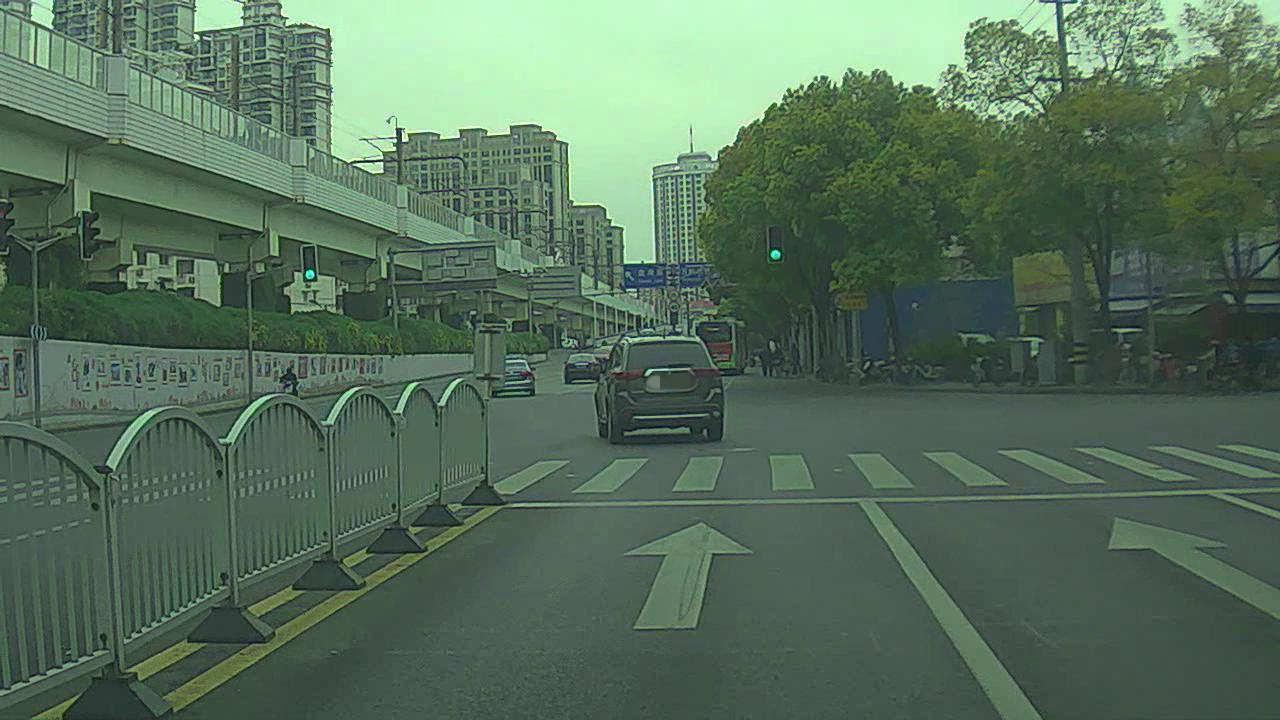traffic_light: (766, 225, 785, 267)
